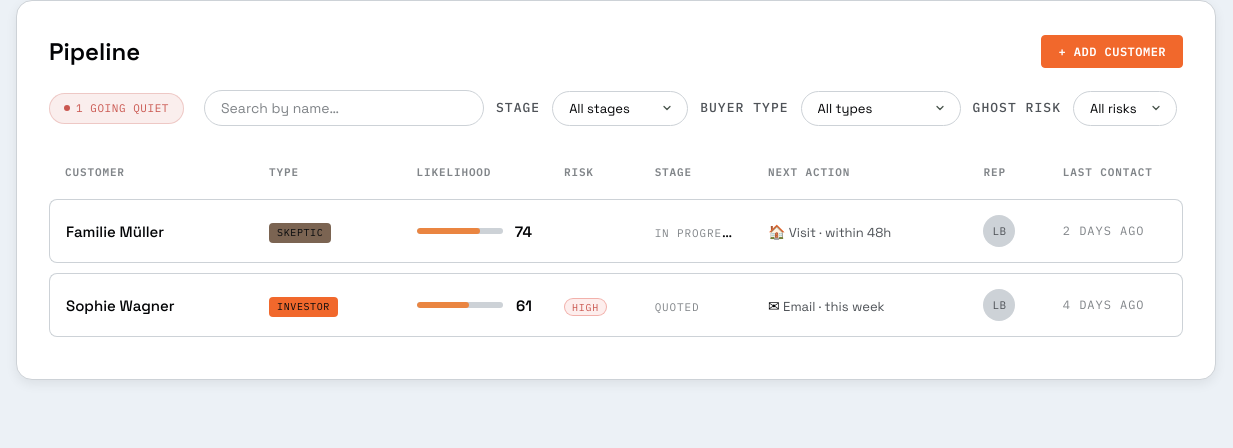
Test case: Dashboard › no-results state shows when filter eliminates all rows
Expected: the text "Familie Müller" is shown, [66,222,164,241]
Note: Search for a name that doesn't exist
Type "zzzzzzz" into the search field. click: (344, 108)
box: [204,90,484,126]
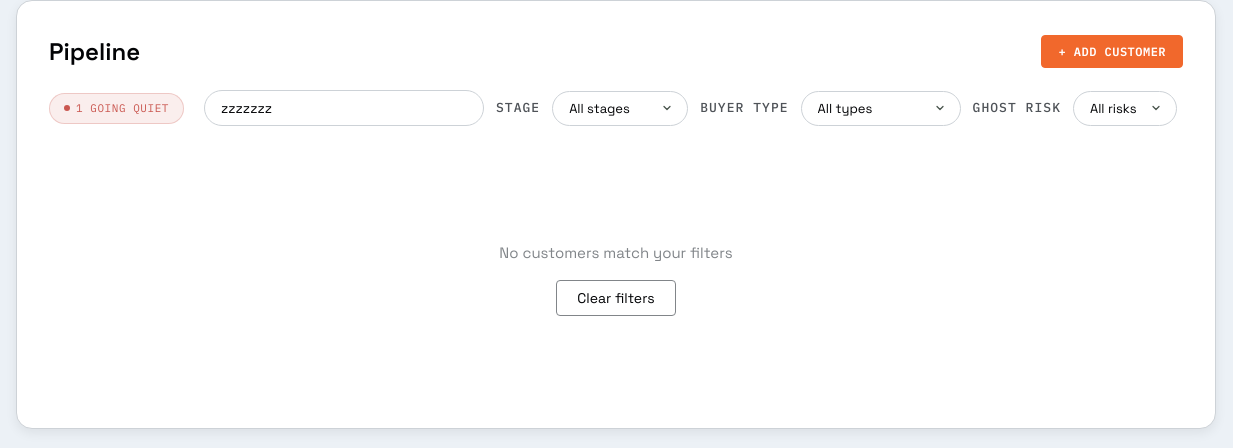
Now the text "No customers match your filters" is shown, box [499,243,733,262]
Now the button "Clear filters" is shown, box [556,280,676,316]
